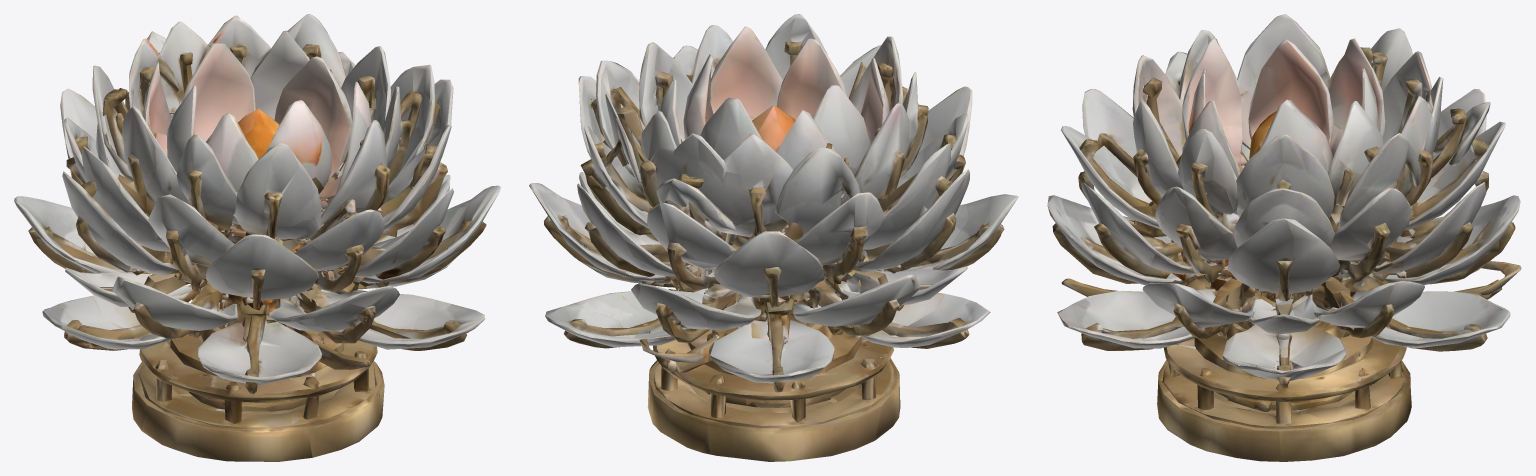
Rendered from kinetic-lotus.glb.
The picture shows the model from 3 angles, left to right: view 1: azimuth 30°, elevation 25°; view 2: azimuth 150°, elevation 25°; view 3: azimuth 270°, elevation 25°; orthographic projection.
Visible parts, largest first — view 1: geometry_0; view 2: geometry_0; view 3: geometry_0.
Part boxes in pixels (x1,y1,x2,y2): geometry_0: [14, 14, 500, 461]; geometry_0: [529, 14, 1018, 461]; geometry_0: [1047, 14, 1521, 461].
Size of the model in its own units: 0.3195 by 0.2522 by 0.3178.
1 material, 1 textured.
